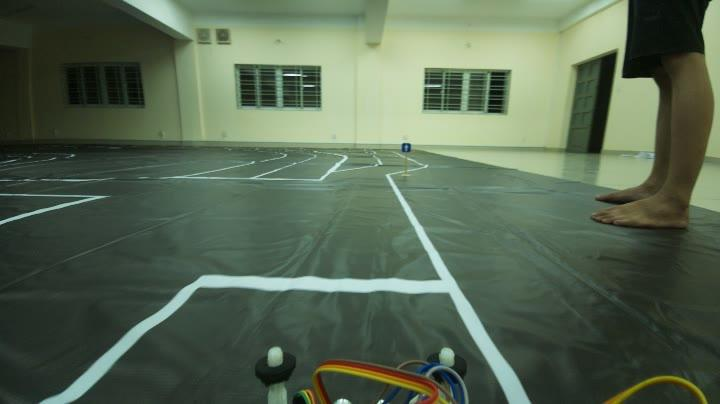onewayroad: (400, 139, 414, 155)
